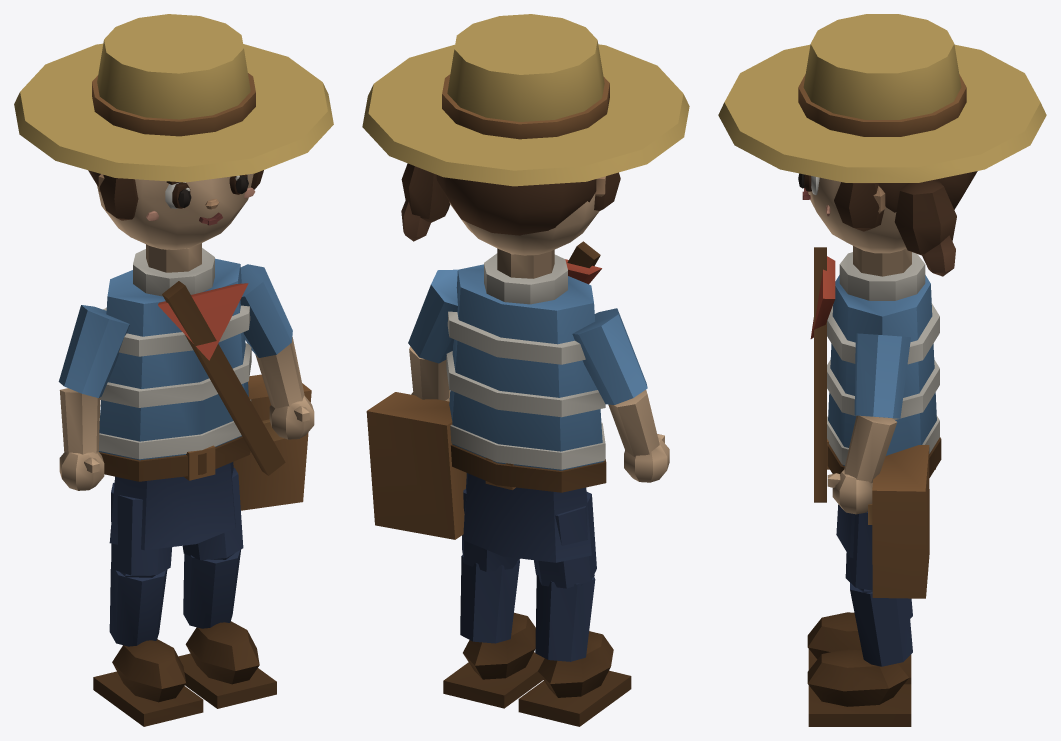
File: characters.glb
The picture shows the model from 3 angles, left to right: view 1: azimuth 30°, elevation 25°; view 2: azimuth 150°, elevation 25°; view 3: azimuth 270°, elevation 25°; orthographic projection. The views are drawn at different scales.
Visible parts, largest first — view 1: SM_char_farmer; view 2: SM_char_farmer; view 3: SM_char_farmer.
Part boxes in pixels (x1,y1,x2,y2): SM_char_farmer: [14, 14, 333, 726]; SM_char_farmer: [362, 14, 689, 726]; SM_char_farmer: [718, 14, 1046, 726].
Size of the model in its own units: 0.7799 by 1.75 by 0.8.
